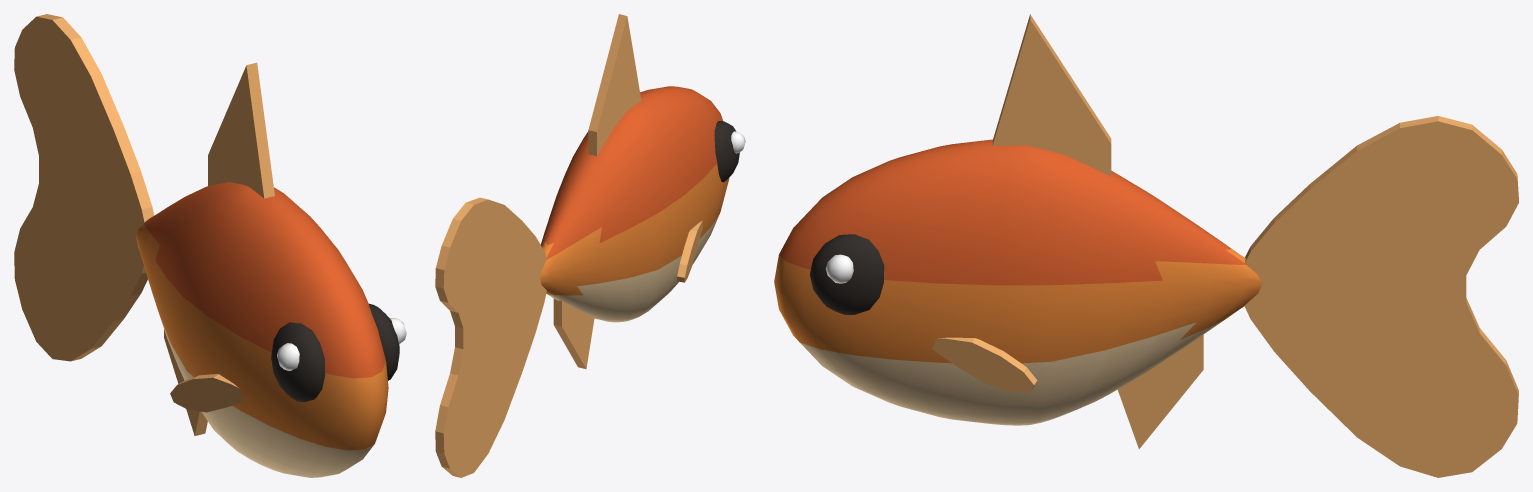
File: fish-goldfish.glb
3 renders of one model, left to right at view 1: azimuth 30°, elevation 25°; view 2: azimuth 150°, elevation 25°; view 3: azimuth 270°, elevation 25°, orthographic. The views are drawn at different scales.
Visible parts, largest first — view 1: fish; view 2: fish; view 3: fish.
Boxes of the visible parts, left/top/right/bottom form: fish: left=14, top=14, right=406, bottom=477; fish: left=435, top=14, right=745, bottom=477; fish: left=774, top=14, right=1518, bottom=477.
Size of the model in its own units: 0.0747 by 0.1948 by 0.2868.
